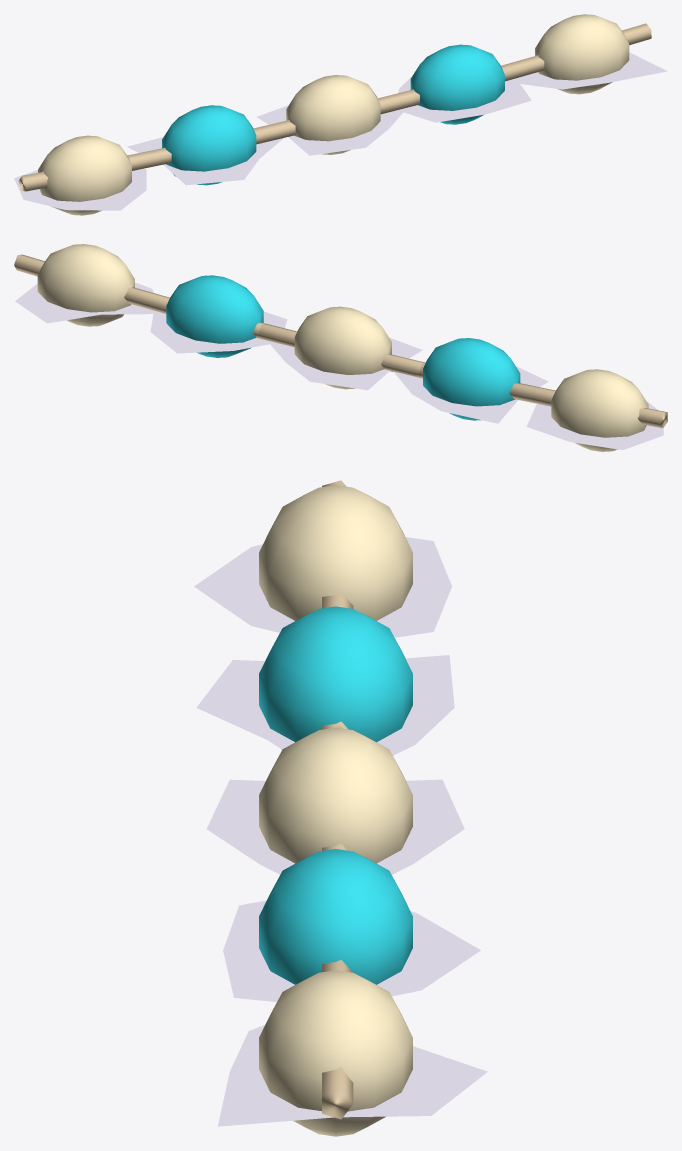
File: swim_line.glb
The picture shows the model from 3 angles, top to bottom: view 1: azimuth 30°, elevation 25°; view 2: azimuth 150°, elevation 25°; view 3: azimuth 270°, elevation 25°; orthographic projection. The views are drawn at different scales.
Visible parts, largest first — view 1: Line; view 2: Line; view 3: Line.
Boxes of the visible parts, box(x1,y1,x2,y2) form: Line: box(14, 14, 667, 215); Line: box(14, 244, 667, 451); Line: box(194, 480, 487, 1136).
Bounding box in the file's own units: 1.01 × 0.11 × 0.205.
